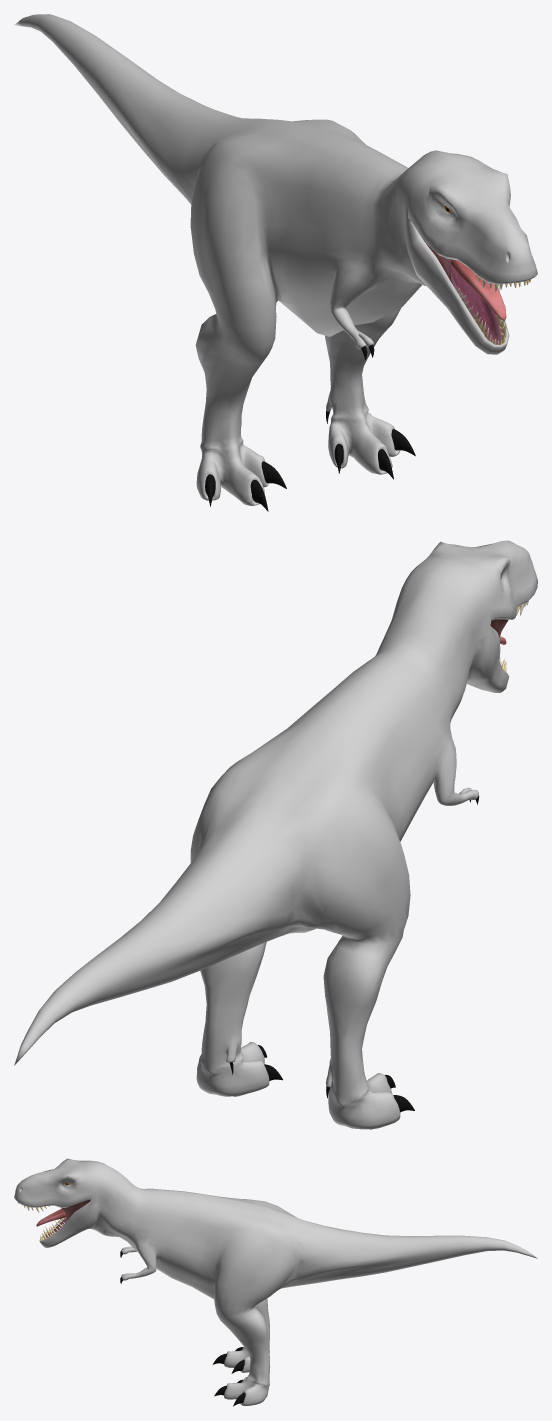
File: rex.obj
The picture shows the model from 3 angles, top to bottom: view 1: azimuth 30°, elevation 25°; view 2: azimuth 150°, elevation 25°; view 3: azimuth 270°, elevation 25°; orthographic projection. The views are drawn at different scales.
Visible parts, largest first — view 1: Group002, treeGroup26643, treeGroup23113; view 2: Group002; view 3: Group002.
Part boxes in pixels (x1,y1,x2,y2): Group002: (14,14,537,505); treeGroup26643: (450,265,503,344); treeGroup23113: (451,259,506,320); Group002: (14,540,537,1129); Group002: (14,1158,537,1405).
Size of the model in its own units: 119 by 236 by 510.
